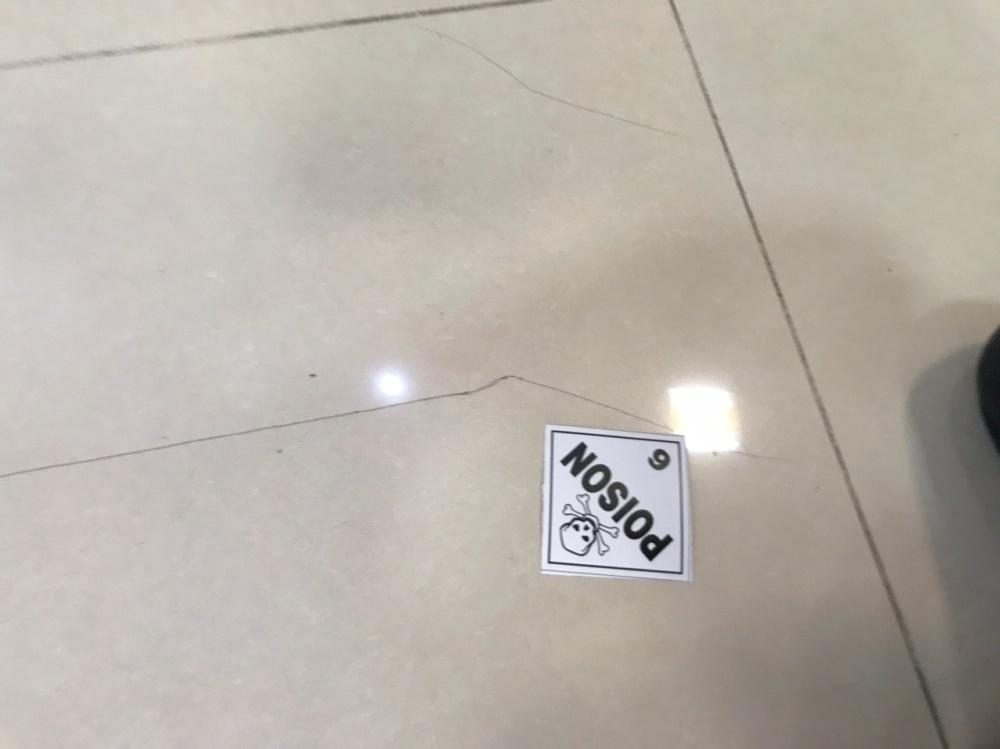poison: (540, 425, 691, 584)
